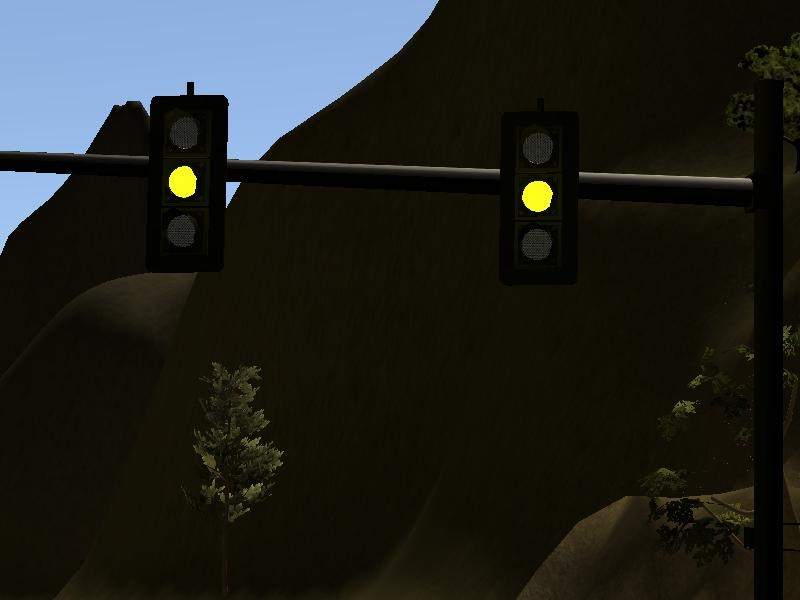yellow: (134, 72, 232, 280), (490, 97, 586, 295)
